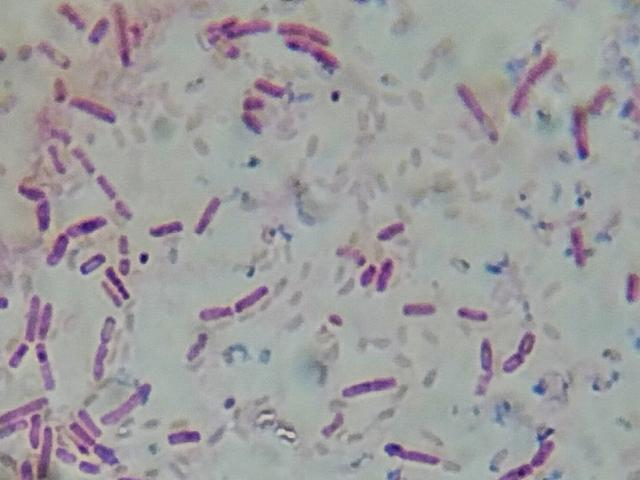E. coli: (496, 46, 554, 121), (333, 369, 405, 407), (492, 440, 559, 480), (459, 85, 503, 142), (99, 381, 155, 425), (109, 4, 138, 71), (207, 17, 264, 51), (71, 89, 119, 128), (88, 317, 119, 373), (499, 329, 540, 371), (568, 102, 597, 161), (23, 181, 60, 227), (235, 277, 275, 315), (386, 440, 441, 467), (288, 40, 341, 67), (162, 422, 204, 455), (565, 227, 590, 275), (179, 329, 215, 362), (190, 191, 217, 235), (612, 265, 640, 306), (375, 211, 410, 243), (38, 36, 71, 69), (102, 266, 128, 307), (1, 393, 54, 413), (348, 253, 377, 289), (375, 256, 398, 299), (281, 20, 328, 41), (472, 335, 496, 376), (401, 293, 434, 322), (36, 339, 55, 389), (66, 218, 110, 238), (71, 248, 104, 274), (146, 217, 181, 241), (201, 296, 232, 323), (459, 302, 492, 327), (23, 291, 42, 333), (41, 426, 56, 479), (119, 231, 138, 272), (44, 228, 65, 264), (253, 73, 287, 95), (67, 423, 93, 451), (75, 401, 100, 429), (52, 71, 69, 109), (71, 144, 94, 172), (41, 302, 56, 341), (93, 443, 119, 465), (62, 4, 83, 31), (9, 339, 27, 369), (90, 18, 107, 47), (2, 418, 27, 437), (238, 93, 265, 110), (241, 113, 265, 131), (31, 411, 43, 446), (75, 460, 101, 475), (96, 172, 113, 194), (18, 457, 34, 480), (113, 202, 133, 219), (56, 446, 75, 463)
